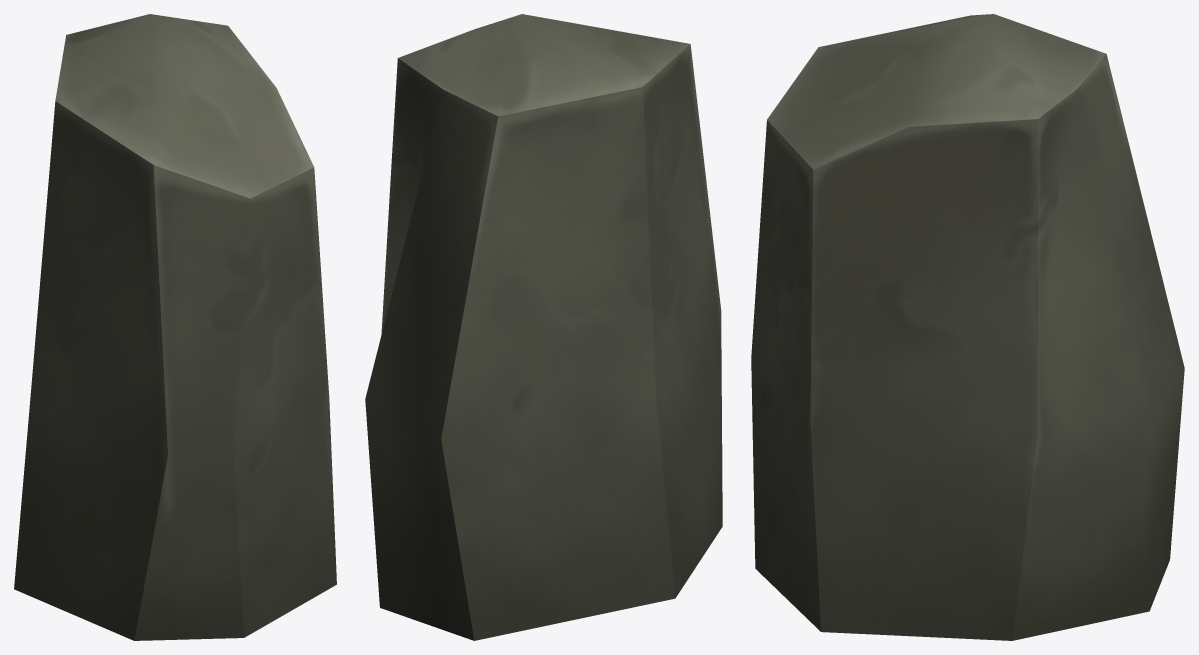
Rendered from Rock Tall #2.fbx.
3 views of the same model, side by side, from view 1: azimuth 30°, elevation 25°; view 2: azimuth 150°, elevation 25°; view 3: azimuth 270°, elevation 25° (orthographic). The views are drawn at different scales.
Parts seen in each view (by area): view 1: Rock Tall #2; view 2: Rock Tall #2; view 3: Rock Tall #2.
Boxes of the visible parts, x1,y1,x2,y2 form: Rock Tall #2: [14, 14, 336, 640]; Rock Tall #2: [365, 14, 722, 640]; Rock Tall #2: [751, 14, 1184, 640].
Bounding box in the file's own units: 68.99 × 132 × 91.97.
Materials: 1 (1 with a texture image).
